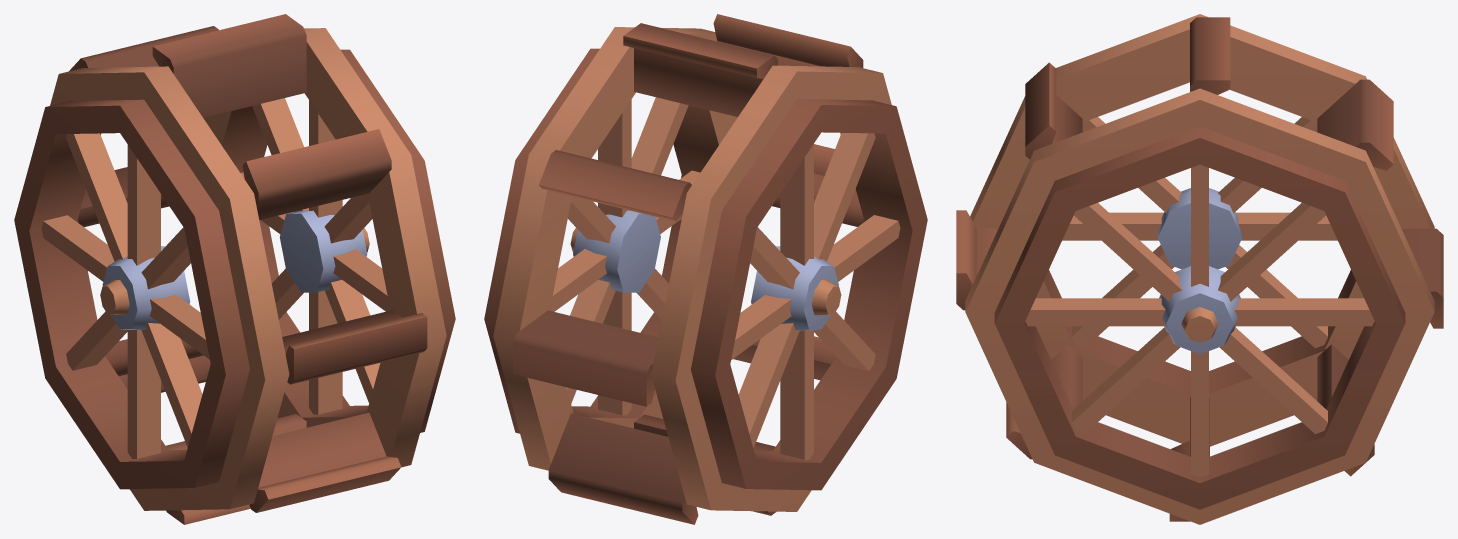
Rendered from watermill-wide.glb.
The picture shows the model from 3 angles, left to right: view 1: azimuth 30°, elevation 25°; view 2: azimuth 150°, elevation 25°; view 3: azimuth 270°, elevation 25°; orthographic projection. The views are drawn at different scales.
Parts seen in each view (by area): view 1: watermill-wide; view 2: watermill-wide; view 3: watermill-wide.
Boxes of the visible parts, x1,y1,x2,y2 form: watermill-wide: (14, 14, 455, 524); watermill-wide: (484, 14, 927, 524); watermill-wide: (956, 14, 1443, 524).
Bounding box in the file's own units: 1.05 × 1.8 × 1.8.
Materials: 1 (1 with a texture image).
